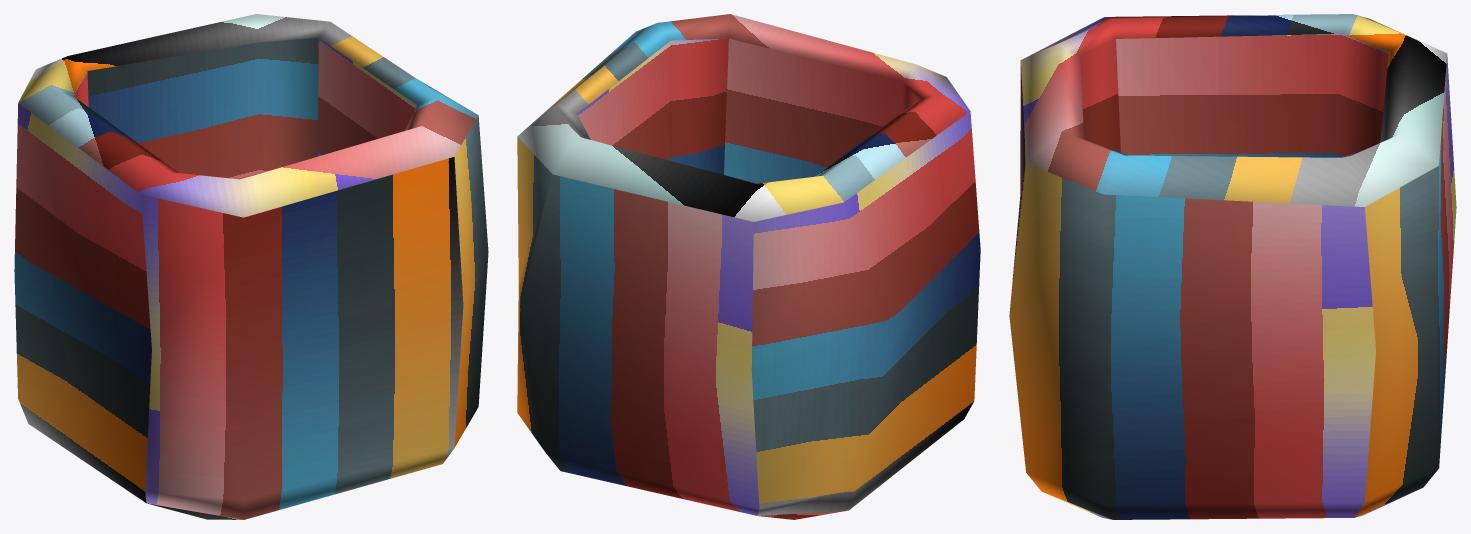
Rendered from Prop_TeaSet_Cup.glb.
The picture shows the model from 3 angles, left to right: view 1: azimuth 30°, elevation 25°; view 2: azimuth 150°, elevation 25°; view 3: azimuth 270°, elevation 25°; orthographic projection. The views are drawn at different scales.
Parts seen in each view (by area): view 1: Prop_TeaSet_Cup; view 2: Prop_TeaSet_Cup; view 3: Prop_TeaSet_Cup.
Part boxes in pixels (x1,y1,x2,y2): Prop_TeaSet_Cup: (14,14,488,519); Prop_TeaSet_Cup: (517,14,980,519); Prop_TeaSet_Cup: (1009,14,1456,519).
Bounding box in the file's own units: 1.71 × 1.55 × 1.66.
Materials: 1 (1 with a texture image).
